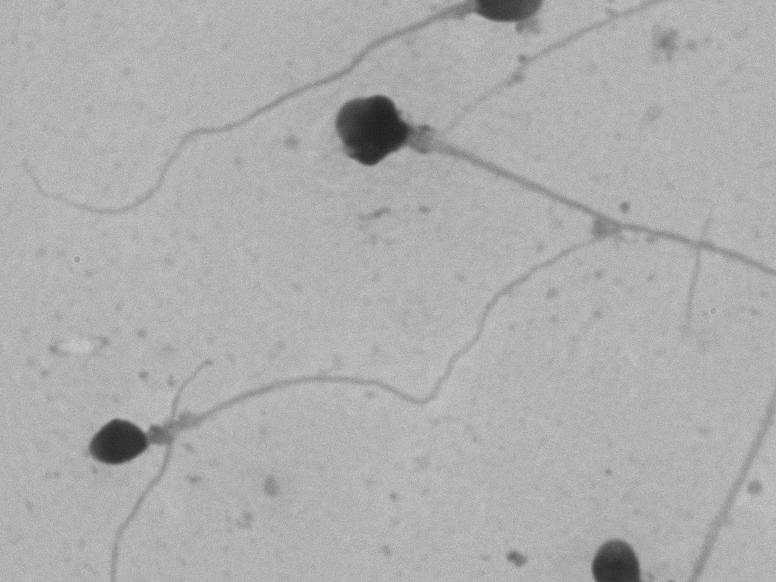Abnormal: (75, 243, 609, 509), (317, 86, 767, 314)
